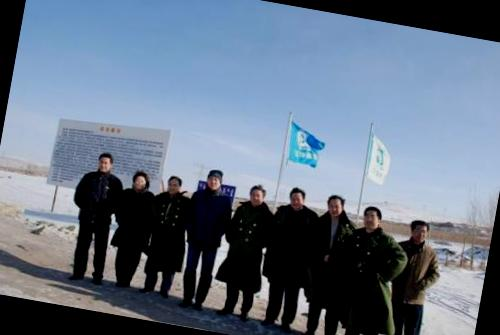no_helmet: (405, 214, 433, 250), (357, 203, 388, 234), (246, 180, 274, 209), (323, 190, 351, 218), (204, 165, 230, 193), (130, 167, 153, 194), (286, 184, 308, 210), (94, 150, 116, 174), (164, 172, 185, 196)
